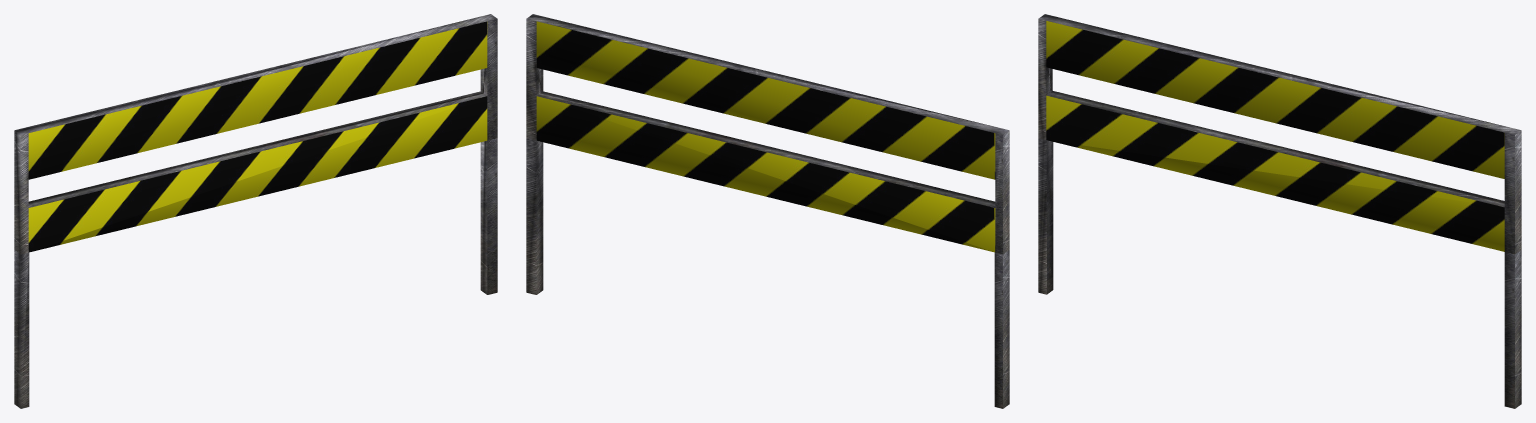
3 views of the same model, side by side, from view 1: azimuth 30°, elevation 25°; view 2: azimuth 150°, elevation 25°; view 3: azimuth 330°, elevation 25° (orthographic).
Bounding box in the file's own units: 32.91 × 18.07 × 0.7874.
1 material, 1 textured.
